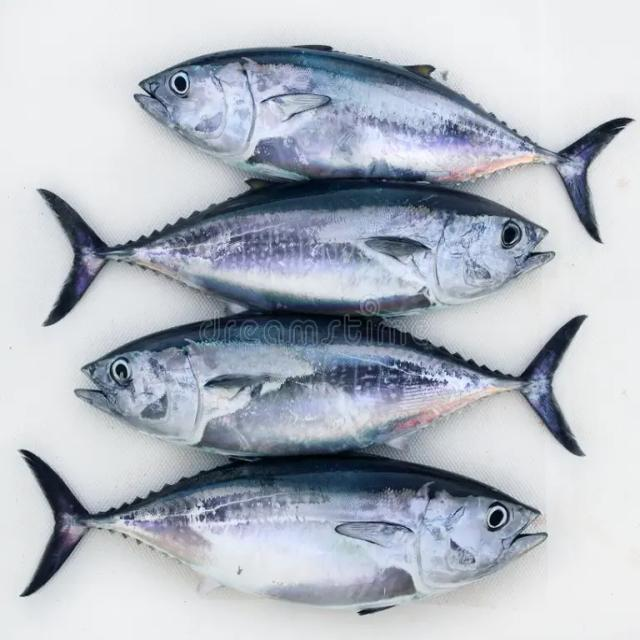Tuna: (131, 45, 633, 243), (19, 448, 547, 614), (71, 313, 585, 461), (41, 177, 557, 323)
